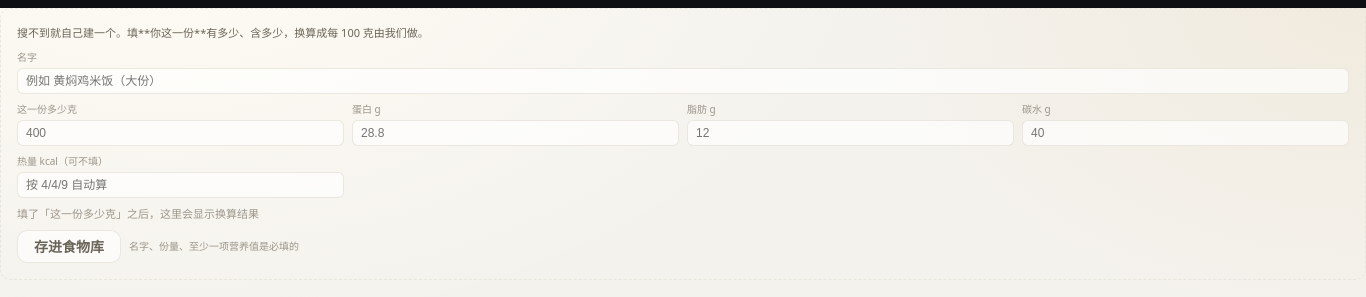
Test case: 新建食物 · 换算口径 › 填了热量就用填的，不覆盖
The width and height of the screenshot is (1366, 297).
Expected: the label "这一份多少克" is shown, [17, 102, 344, 146]
Type "100" into the number field labelled "这一份多少克" at (180, 132), box [17, 120, 344, 146]
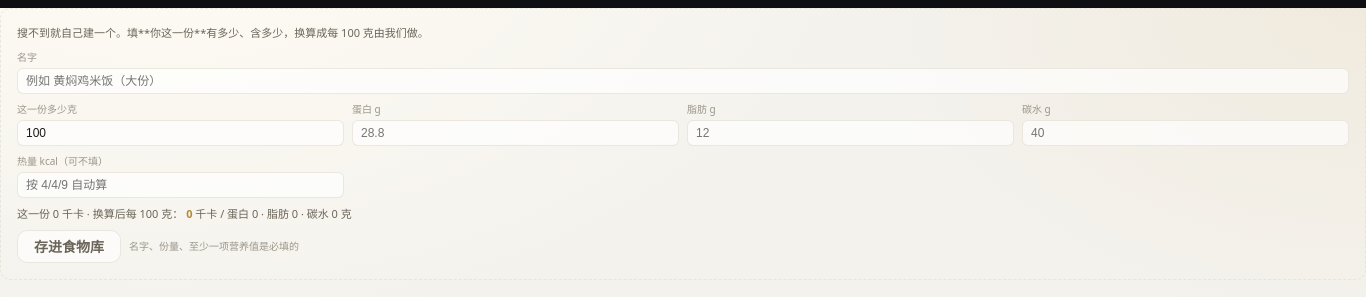
Expected: the label "蛋白 g" is shown, [352, 102, 679, 146]
Type "10" into the number field labelled "蛋白 g" at (516, 132), box [352, 120, 679, 146]
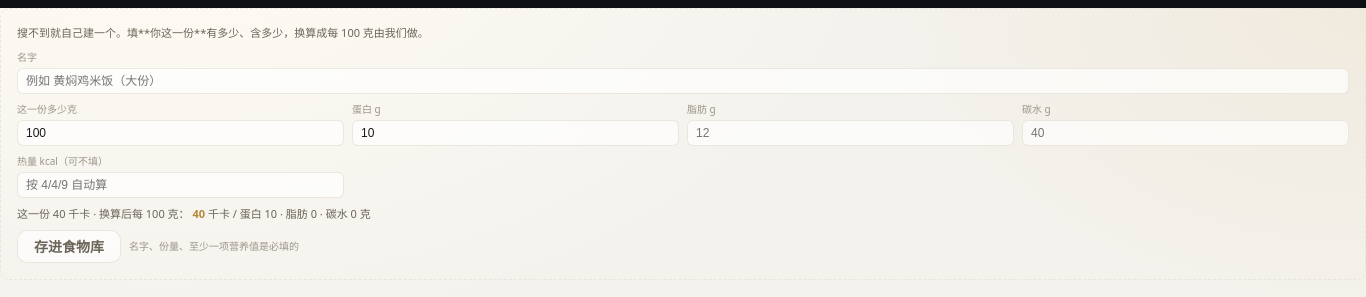
Expected: the label "脂肪 g" is shown, [687, 102, 1014, 146]
Type "5" into the number field labelled "脂肪 g" at (850, 132), box [687, 120, 1014, 146]
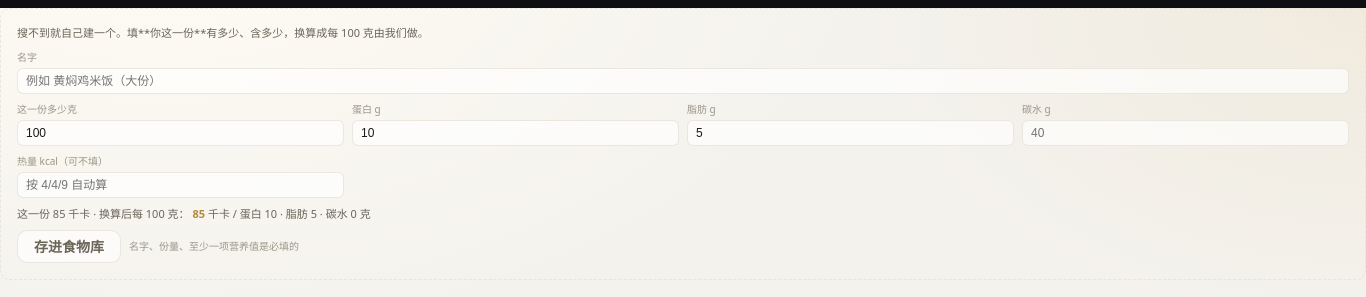
Expected: the label "热量 kcal（可不填）" is shown, [17, 154, 344, 198]
Type "200" into the number field labelled "热量 kcal（可不填）" at (180, 184), box [17, 172, 344, 198]
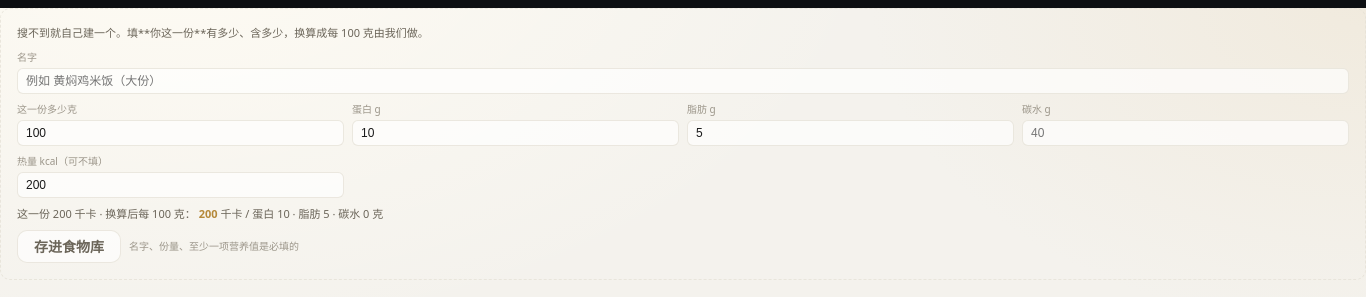
Result: the element showing "这一份 200 千卡 · 换算后每 100 克： 200 千卡 / 蛋白 10 · 脂肪 5 · 碳水 0 克" is shown at [17, 206, 383, 220]
Result: the text "85" is gone
